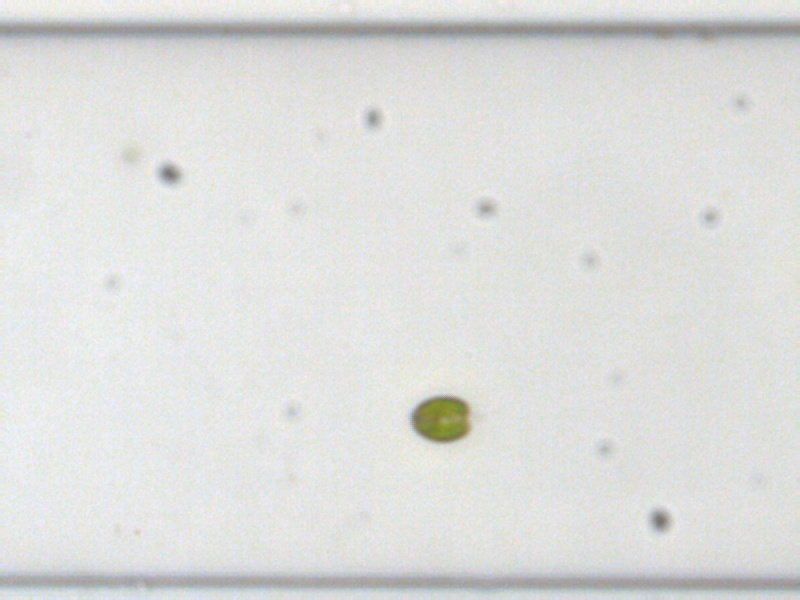Platymonas: (408, 393, 470, 443)
